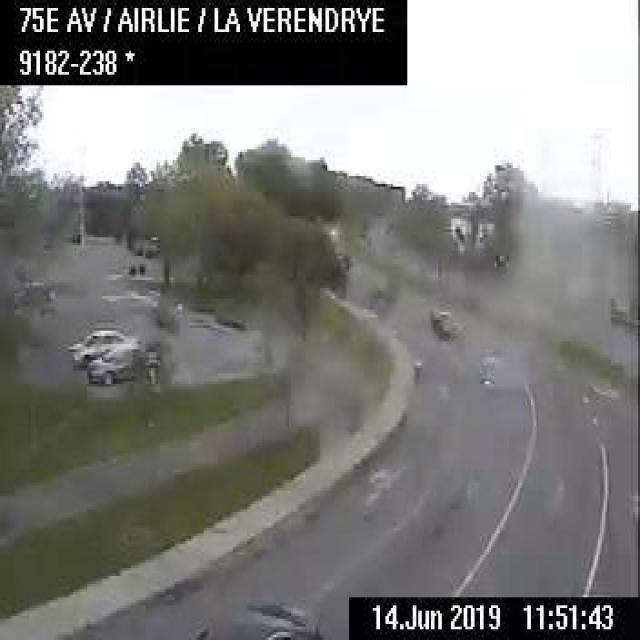vehicle: (191, 595, 322, 637), (87, 339, 146, 384), (65, 325, 128, 366), (428, 306, 465, 341), (12, 276, 56, 302), (475, 351, 498, 387)
